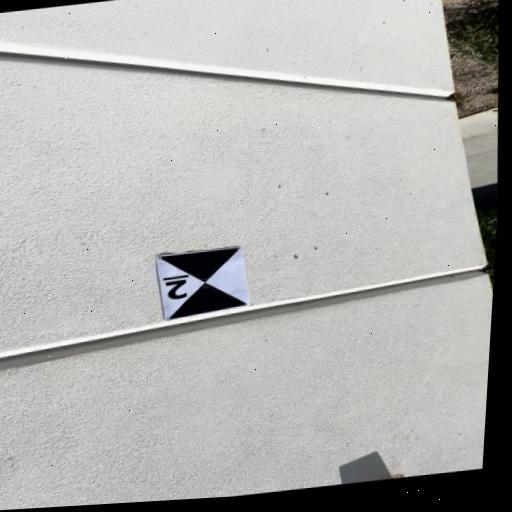target2: (155, 245, 251, 319)
